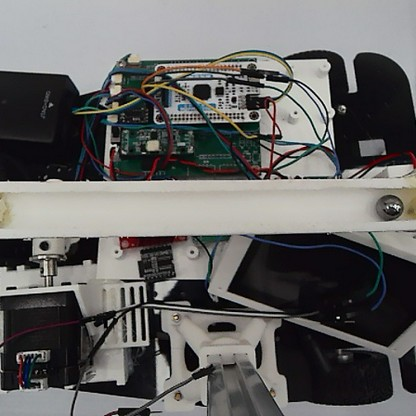ironball: (374, 190, 405, 222)
